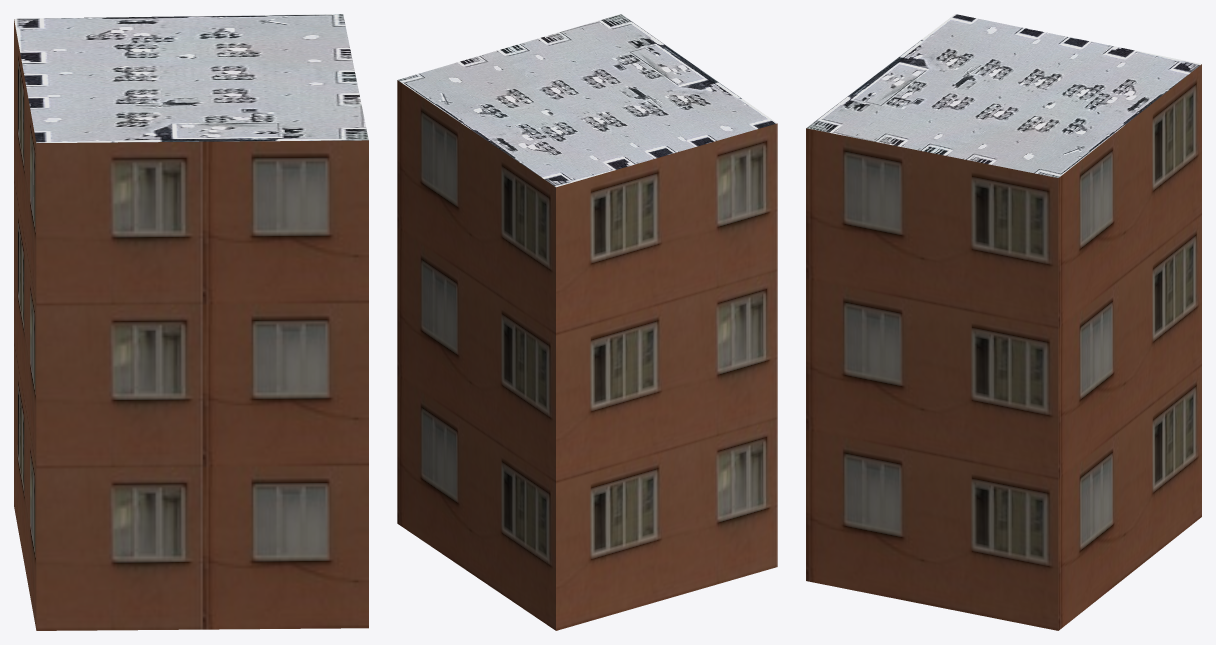
Rendered from ResTex__649.fbx.
The picture shows the model from 3 angles, left to right: view 1: azimuth 30°, elevation 25°; view 2: azimuth 150°, elevation 25°; view 3: azimuth 270°, elevation 25°; orthographic projection. The views are drawn at different scales.
Visible parts, largest first — view 1: CityEngineMaterial_20_m, CityEngineMaterial_8_m; view 2: CityEngineMaterial_20_m, CityEngineMaterial_8_m; view 3: CityEngineMaterial_20_m, CityEngineMaterial_8_m.
Boxes of the visible parts, x1,y1,x2,y2 form: CityEngineMaterial_20_m: (14, 19, 368, 630); CityEngineMaterial_8_m: (14, 14, 368, 142); CityEngineMaterial_20_m: (397, 80, 777, 630); CityEngineMaterial_8_m: (398, 14, 777, 187); CityEngineMaterial_20_m: (806, 64, 1201, 630); CityEngineMaterial_8_m: (806, 14, 1201, 177).
Size of the model in its own units: 7 by 9 by 7.13.
Materials: 2 (2 with a texture image).
